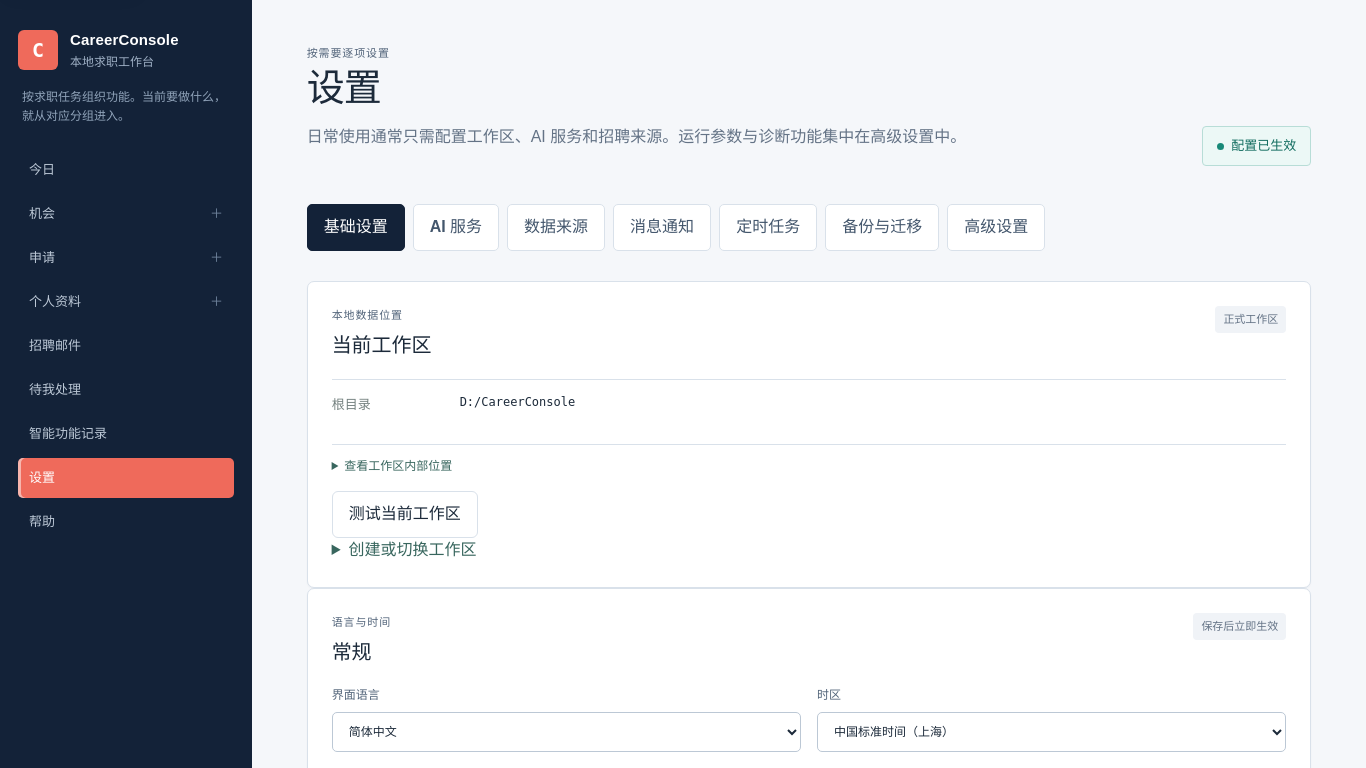
Test case: Career app shell › renders versioned unified settings and change audit
Check: the heading "常规" is shown, box [332,641,372,663]
Check: the dropdown labelled "时区" shows "中国标准时间（上海）", box [817,712,1286,752]
Click the button "备份与迁移": [882, 227] box [825,204,939,251]
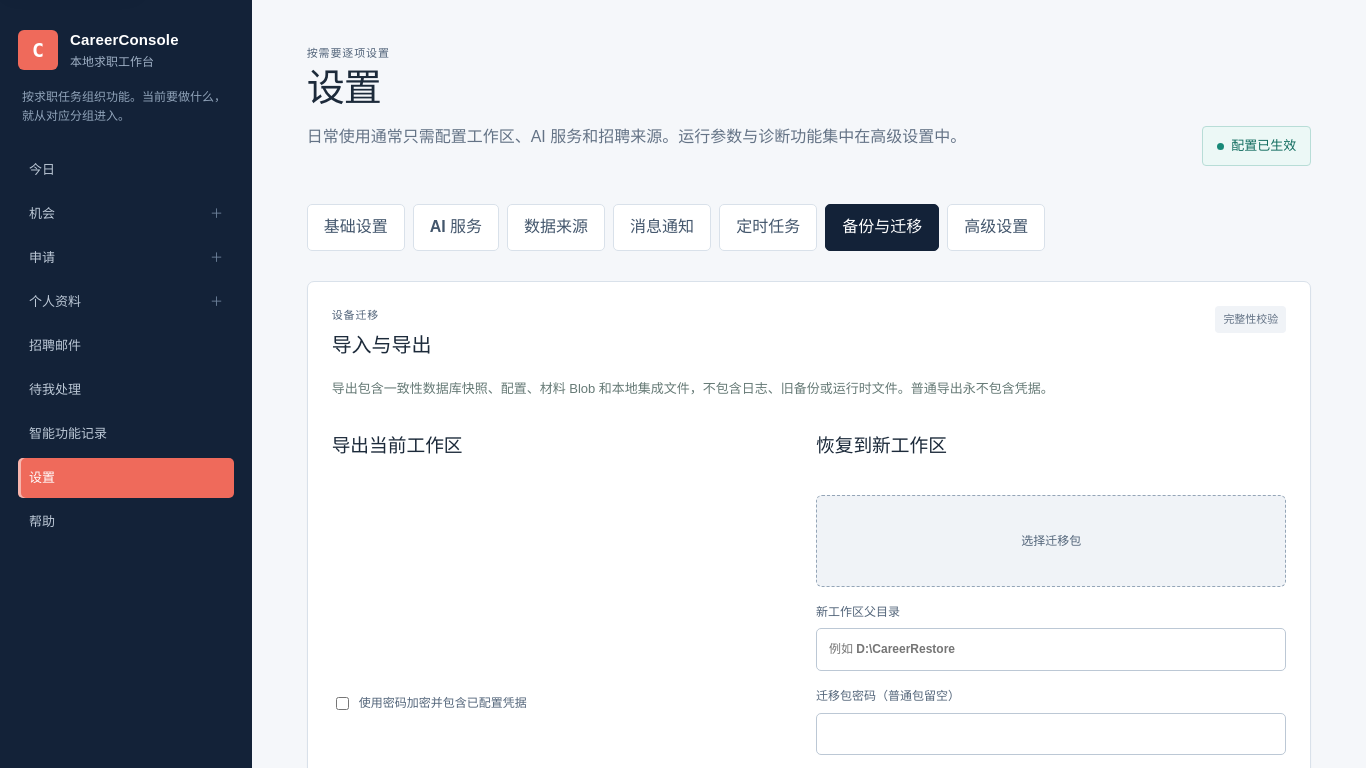
Check: the heading "导入与导出" is shown, box [332,330,432,361]
Click the button "AI 服务": [456, 227] box [413,204,499,251]
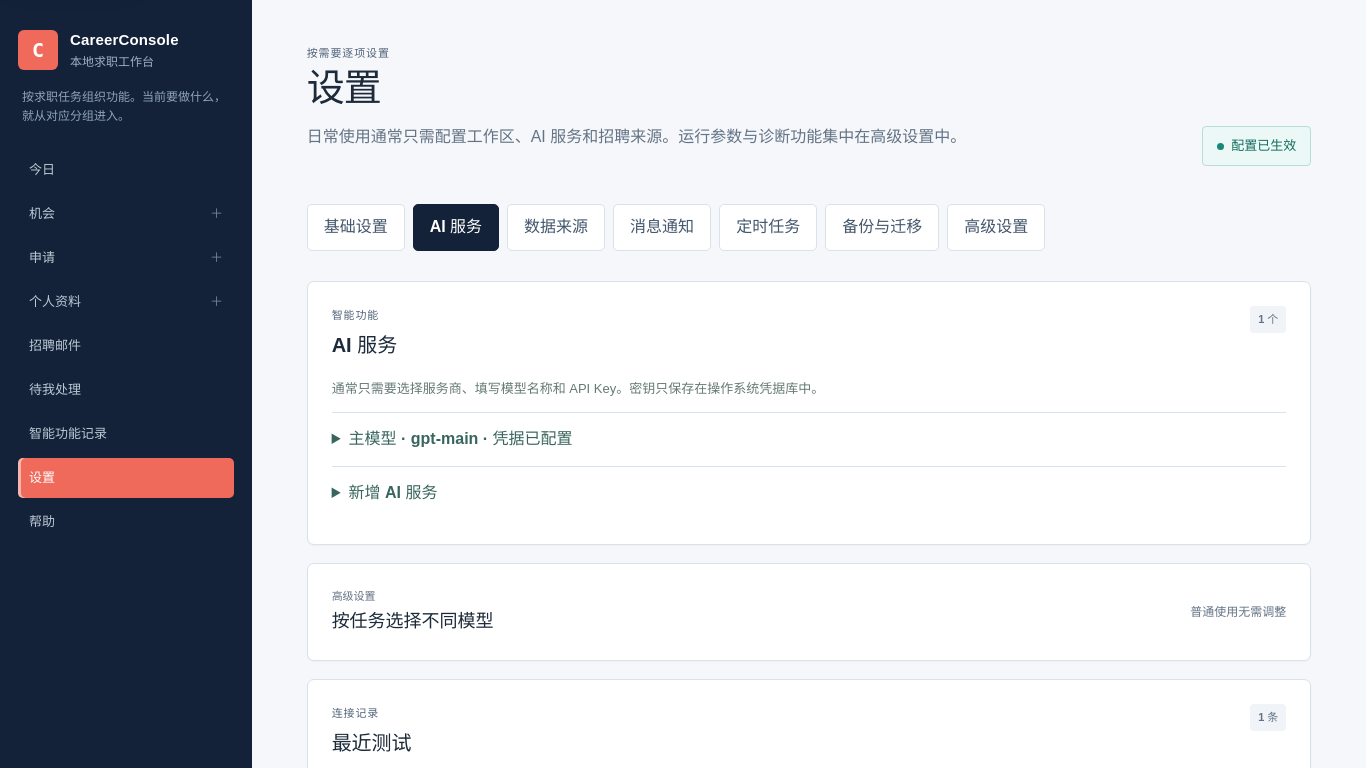
Check: the heading "主模型 · gpt-main · 凭据已配置" is shown, box [349,430,573,447]
Check: the element with placeholder "已安全保存；留空保持不变" is empty, box [332,412,1286,466]
Click the text "按任务选择不同模型": [413, 622] box [332,608,494,636]
(page scrolled)
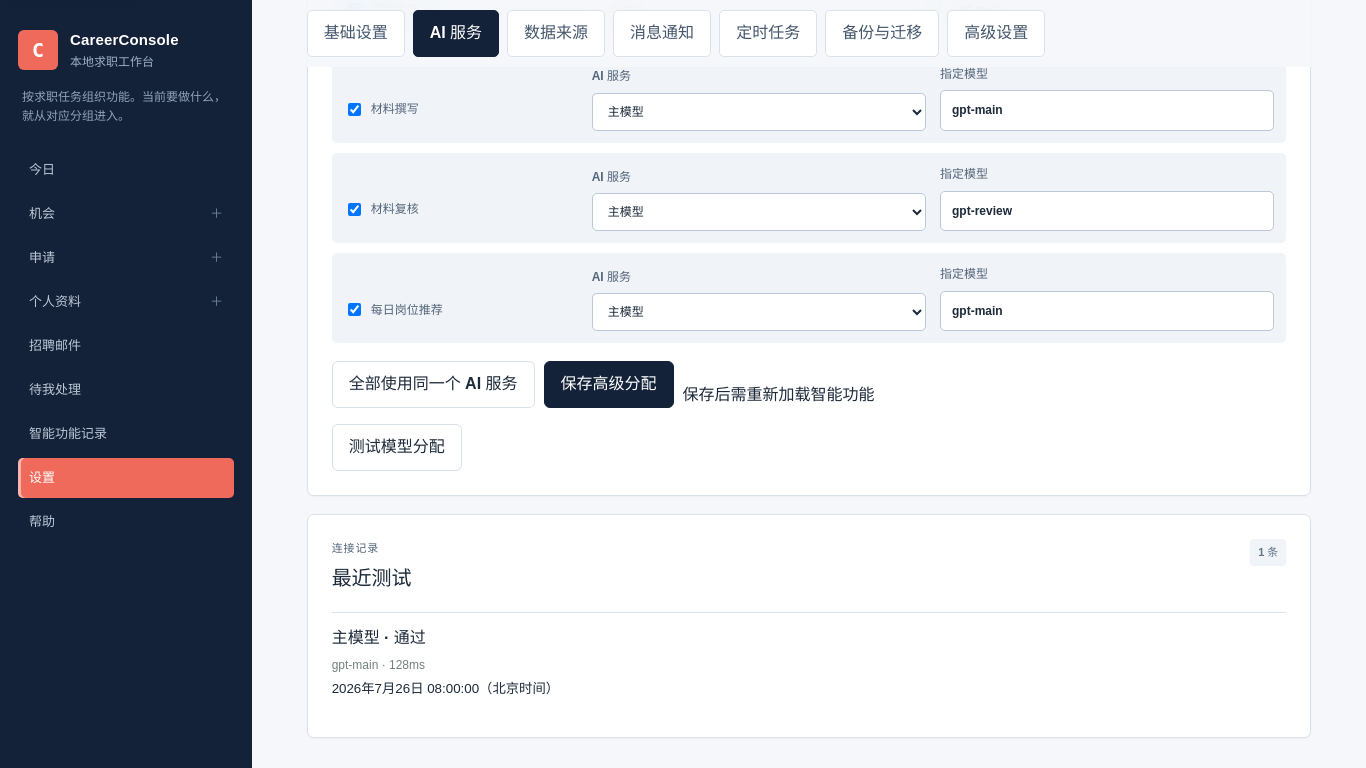
Click the button "保存高级分配": [608, 385] box [544,361,674,408]
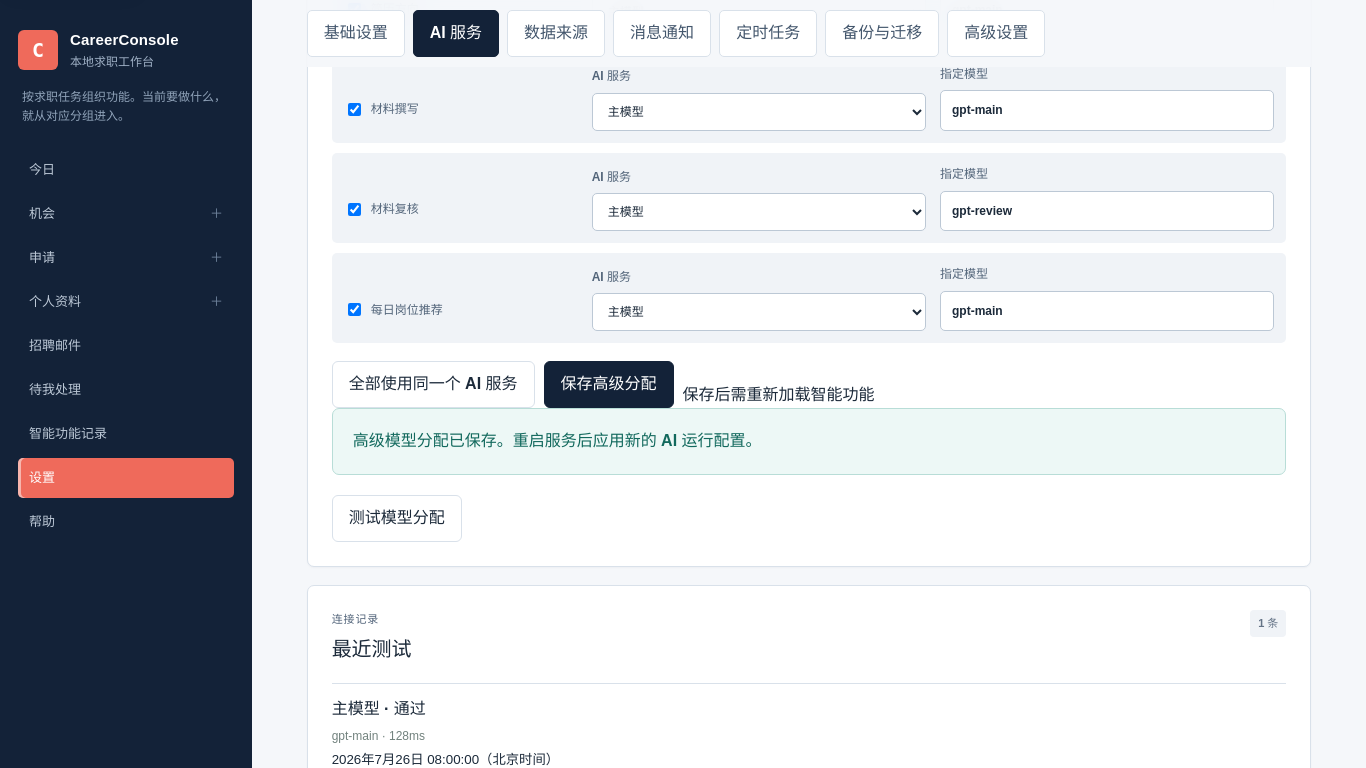
Check: the text "高级模型分配已保存。重启服务后应用新的 AI 运行配置。" is shown, box [353,432,762,449]
Click the button "消息通知": [662, 33] box [613,10,711,57]
(page scrolled)
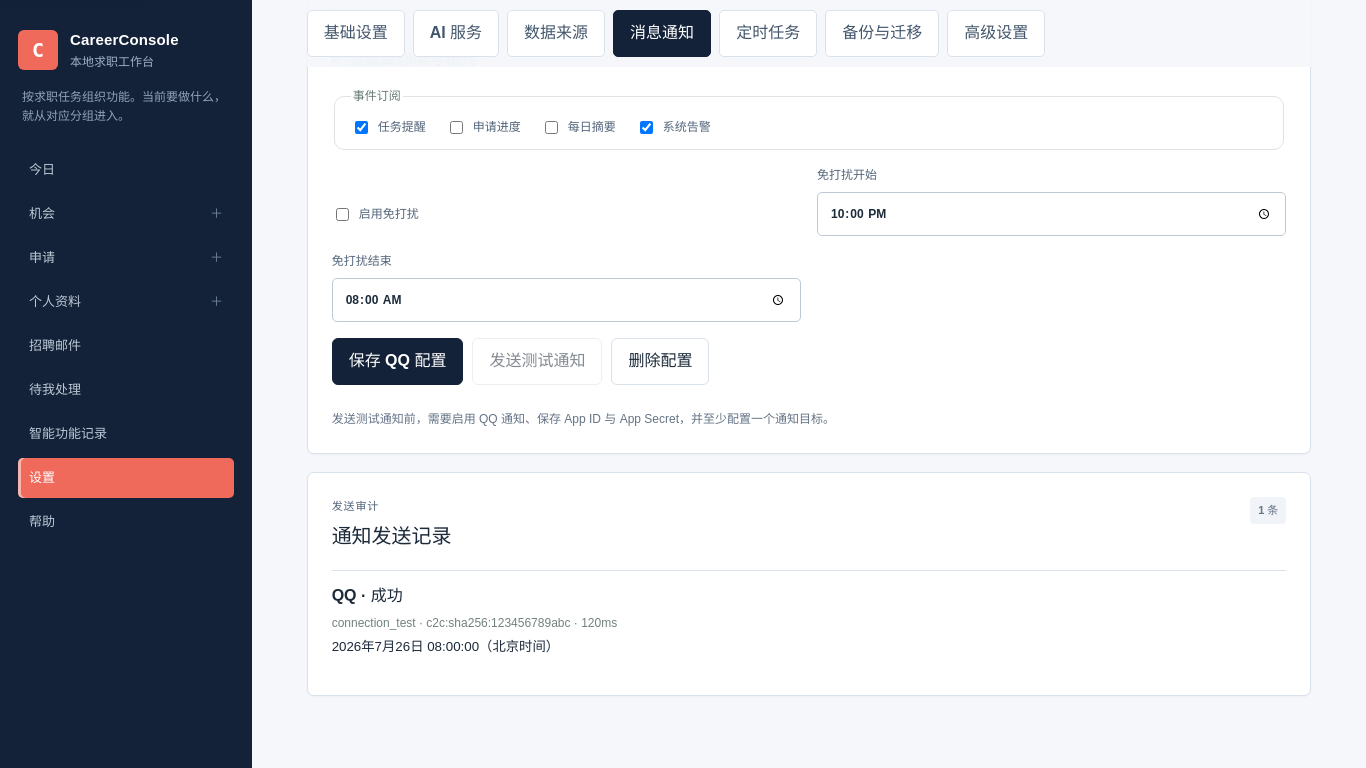
Check: the text "connection_test · c2c:sha256:123456789abc · 120ms" is shown, box [332,616,617,630]
Click the button "高级设置": [996, 33] box [947,10,1045,57]
(page scrolled)
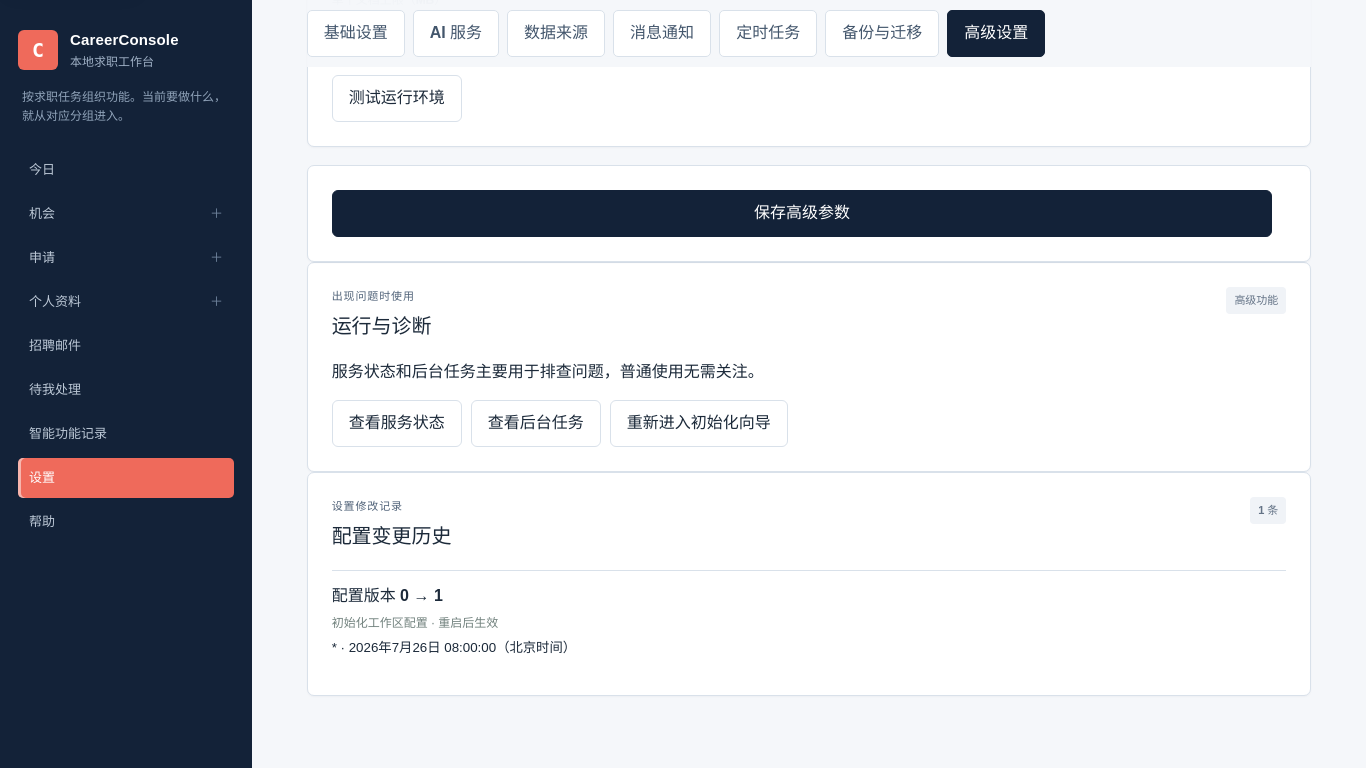
Check: the text "配置版本 0 → 1" is shown, box [332,587,443,604]
Check: the button "重新进入初始化向导" is shown, box [610,400,788,447]
